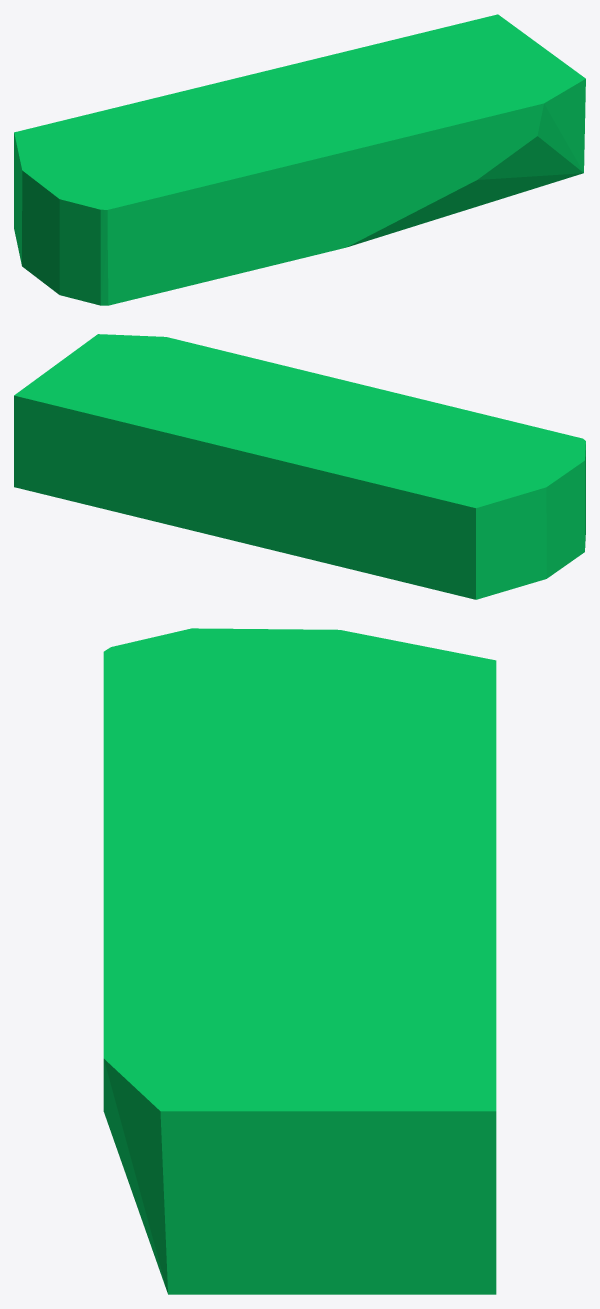
3 renders of one model, top to bottom at view 1: azimuth 30°, elevation 25°; view 2: azimuth 150°, elevation 25°; view 3: azimuth 270°, elevation 25°, orthographic. The views are drawn at different scales.
Size of the model in its own units: 6.79 by 1.2 by 2.33.
